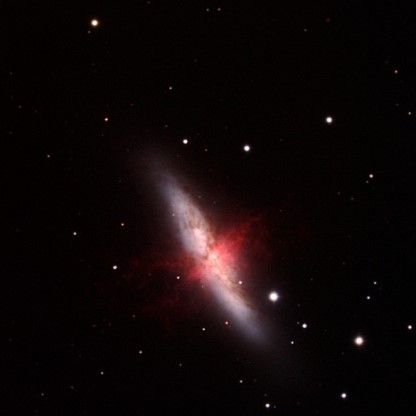Messier 82: (130, 139, 301, 354)
